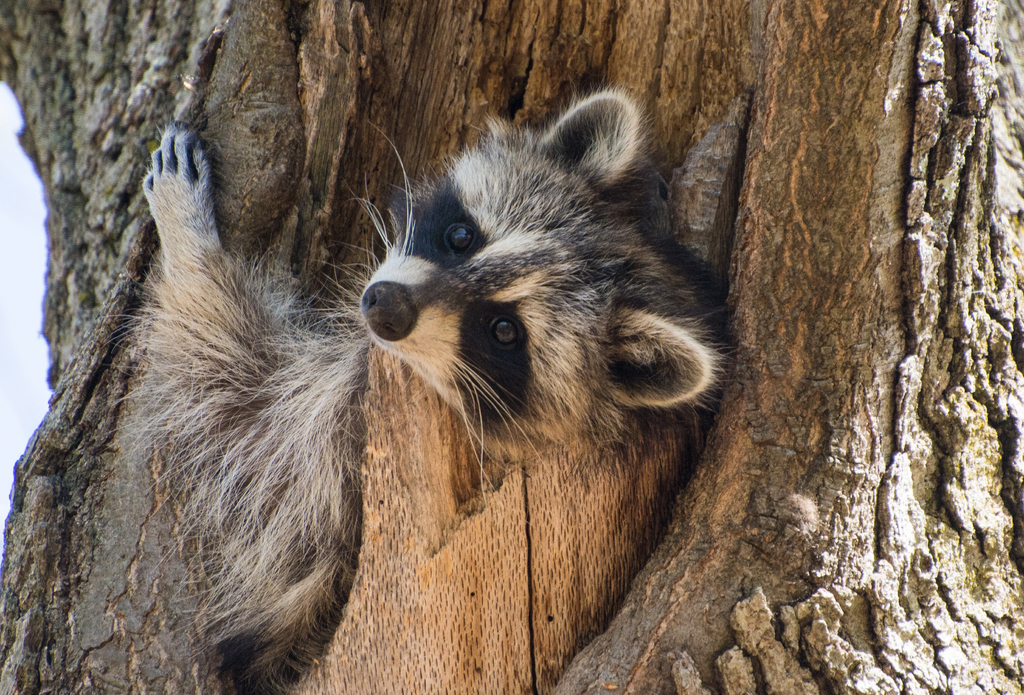raccoon: (139, 82, 716, 695)
